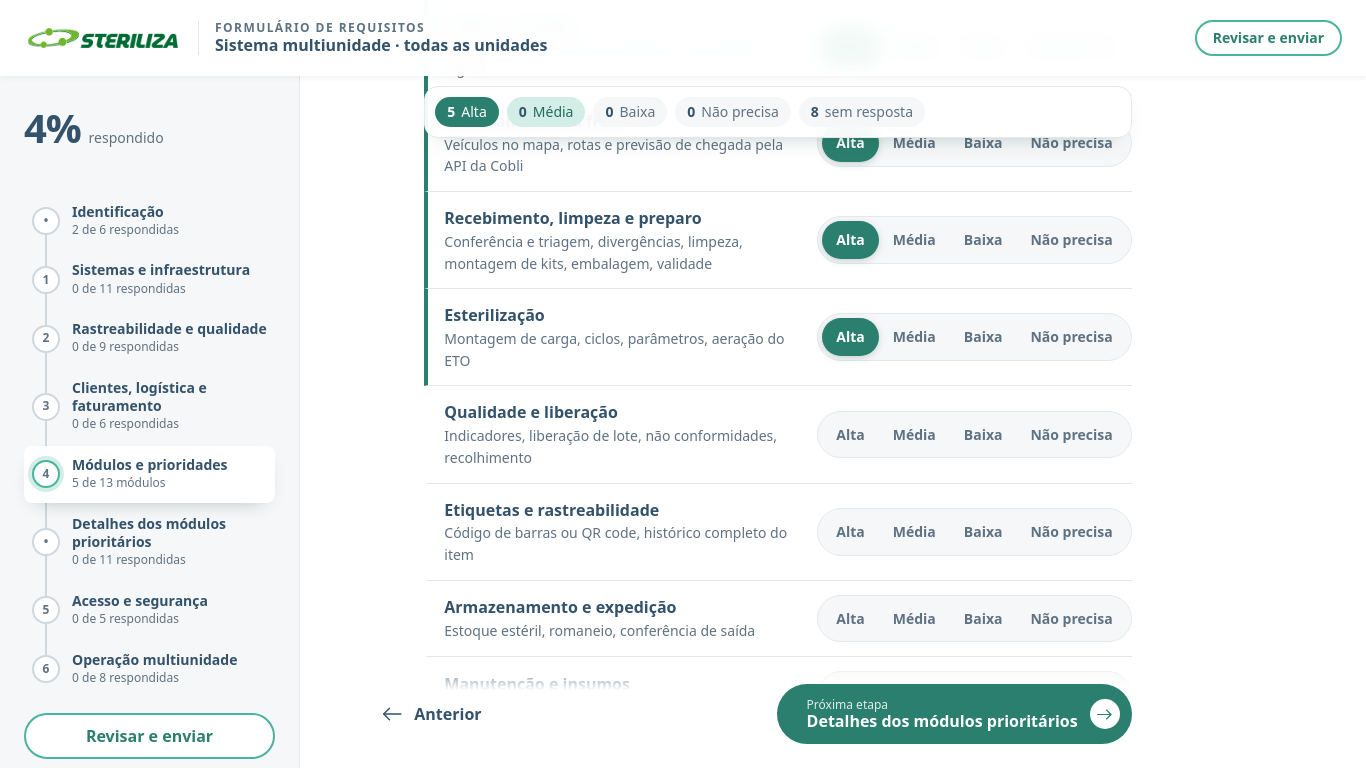
Test: matrizes › conta os níveis e alerta quando há módulos demais em alta
The width and height of the screenshot is (1366, 768).
(page scrolled)
Click the radio button labelled "Alta" in the row of "Qualidade e liberação" at (850,434), box [836,425,865,444]
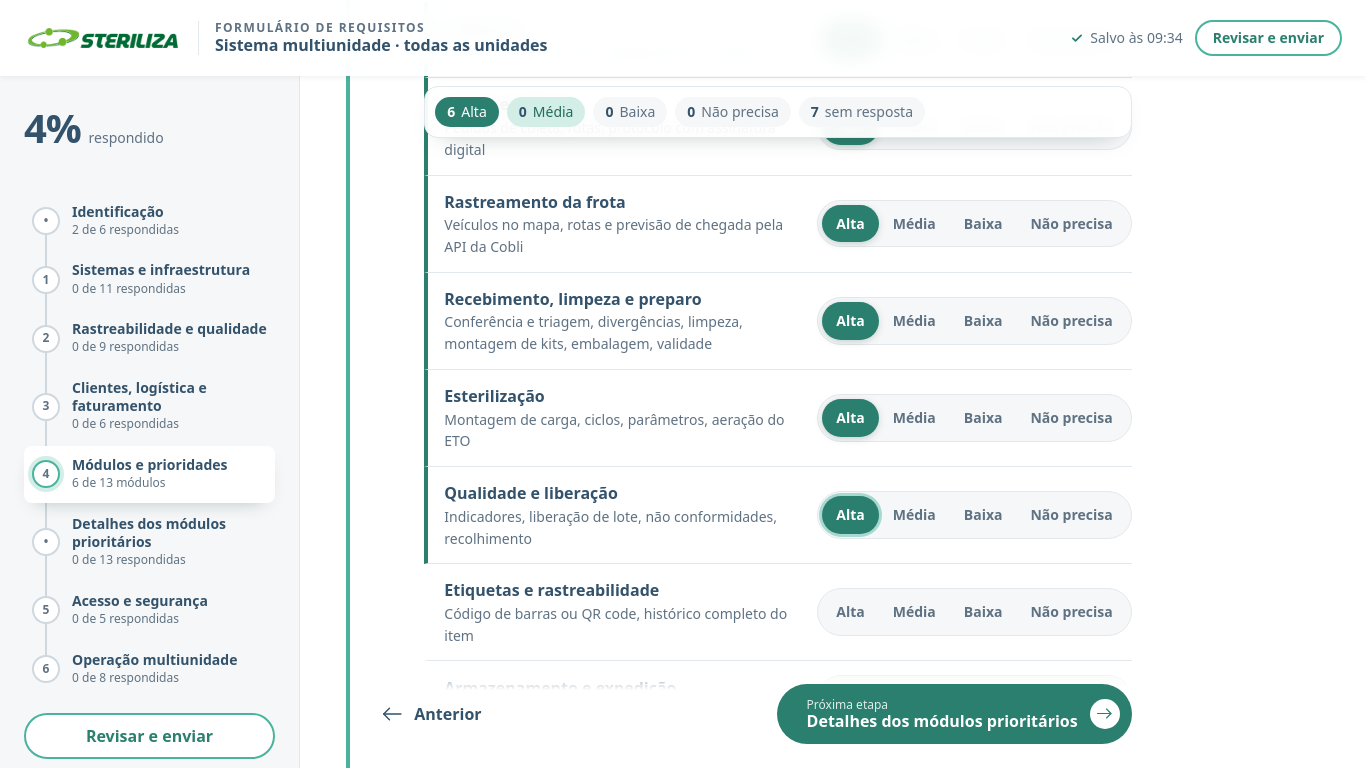
Check: the text "sem resposta" reads "7 sem resposta", box [799,97,925,127]
